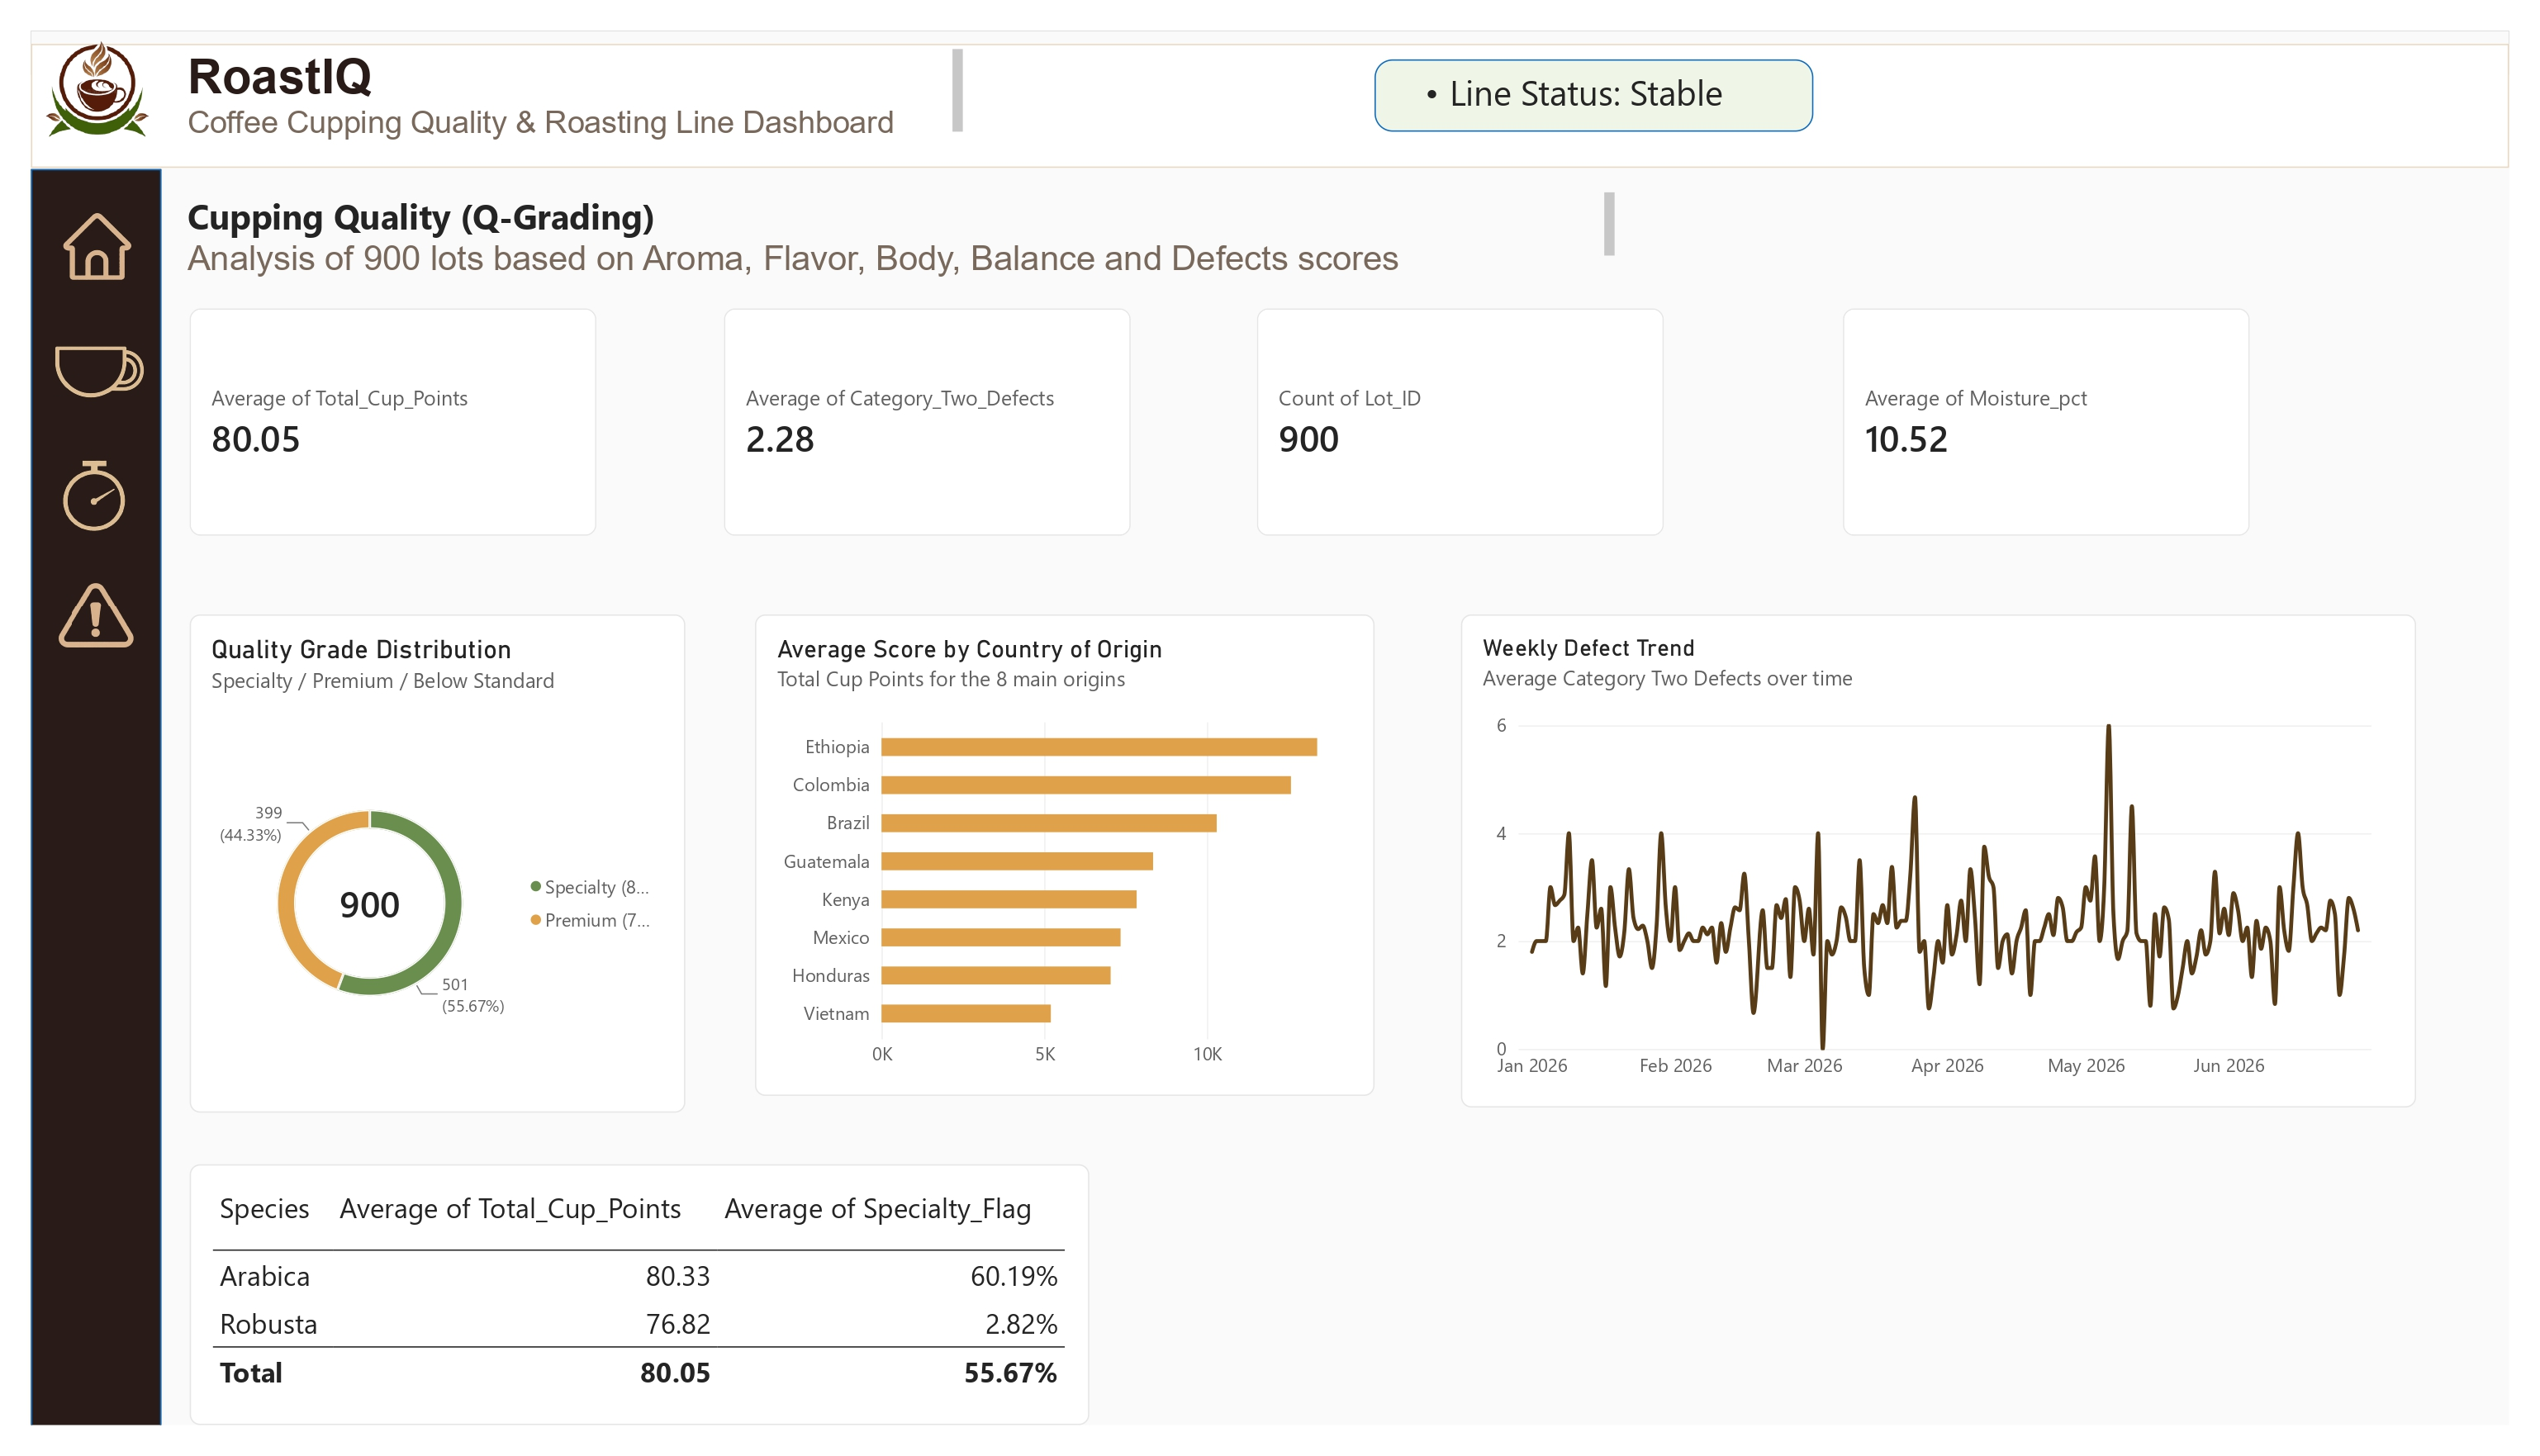

Layout of this report page (visuals, bound fields, positions):
{"tool":"powerbi","page":{"name":"Cupping QC","canvas":[1920,1080],"ordinal":1},"visuals":[{"type":"textbox","box":[121.2,124.9,1105.7,72.4],"z":0},{"type":"shape","box":[0,106.8,101,974],"z":1000},{"type":"cardVisual","fields":{"Data":["Avg(Fact_Cupping.Total_Cup_Points)"]},"box":[123.1,215.3,314.9,175.5],"z":2000},{"type":"cardVisual","fields":{"Data":["Avg(Fact_Cupping.Moisture_pct)"]},"box":[1404.3,215.3,314.9,175.5],"z":3000},{"type":"cardVisual","fields":{"Data":["CountNonNull(Fact_Cupping.Lot_ID)"]},"box":[950.1,215.3,314.9,175.5],"z":4000},{"type":"cardVisual","fields":{"Data":["Avg(Fact_Cupping.Category_Two_Defects)"]},"box":[537.5,215.3,314.9,175.5],"z":5000},{"type":"image","box":[12.7,137.5,77.8,59.7],"z":6000},{"type":"image","box":[10.9,327.5,79.6,63.3],"z":7000},{"type":"image","box":[14.5,423.5,70.6,58],"z":8000},{"type":"image","box":[10.9,231.6,81,61],"z":9000},{"type":"shape","box":[0,10,1920.1,95.9],"z":10000},{"type":"image","box":[2.1,0,97.7,90.5],"z":11000},{"type":"textbox","box":[121.2,14.5,600.8,76],"z":12000},{"type":"shape","box":[1040.8,21.6,340.2,56.1],"z":13000},{"type":"textbox","box":[1058.9,28.8,289.5,49],"z":14000},{"type":"donutChart","title":"Quality Grade Distribution","fields":{"Category":["Fact_Cupping.Grade"],"Y":["CountNonNull(Fact_Cupping.Lot_ID)"]},"box":[123.1,452.4,383.6,385.5],"z":15000},{"type":"clusteredBarChart","title":"Average Score by Country of Origin","fields":{"Category":["Fact_Cupping.Country_of_Origin"],"Y":["Sum(Fact_Cupping.Total_Cup_Points)"]},"box":[561,452.4,479.6,372.8],"z":16000},{"type":"lineChart","title":"Weekly Defect Trend","fields":{"Category":["Fact_Cupping.Date.Variation.Date Hierarchy.Year","Fact_Cupping.Date.Variation.Date Hierarchy.Quarter","Fact_Cupping.Date.Variation.Date Hierarchy.Month","Fact_Cupping.Date.Variation.Date Hierarchy.Day"],"Y":["Avg(Fact_Cupping.Category_Two_Defects)"]},"box":[1107.5,452.4,740.2,381.8],"z":17000},{"type":"tableEx","fields":{"Values":["Fact_Cupping.Species","Avg(Fact_Cupping.Total_Cup_Points)","Avg(Fact_Cupping.Specialty_Flag)"]},"box":[123.1,877.7,696.7,202.7],"z":18000}]}

Visuals, with their boxes on the page's 1920x1080 design canvas (x1, y1, x2, y2). These are canvas units, not pixel positions in the 2540x1456 screenshot, which may show the page scaled, cropped or inside an application window:
textbox: 121 125 1227 197
shape: 0 107 101 1081
cardVisual - Avg(Fact_Cupping.Total_Cup_Points): 123 215 438 391
cardVisual - Avg(Fact_Cupping.Moisture_pct): 1404 215 1719 391
cardVisual - CountNonNull(Fact_Cupping.Lot_ID): 950 215 1265 391
cardVisual - Avg(Fact_Cupping.Category_Two_Defects): 538 215 852 391
image: 13 138 90 197
image: 11 328 90 391
image: 14 424 85 482
image: 11 232 92 293
shape: 0 10 1920 106
image: 2 0 100 90
textbox: 121 14 722 90
shape: 1041 22 1381 78
textbox: 1059 29 1348 78
"Quality Grade Distribution" donutChart: 123 452 507 838
"Average Score by Country of Origin" clusteredBarChart: 561 452 1041 825
"Weekly Defect Trend" lineChart: 1108 452 1848 834
tableEx - Fact_Cupping.Species x Avg(Fact_Cupping.Total_Cup_Points): 123 878 820 1080
